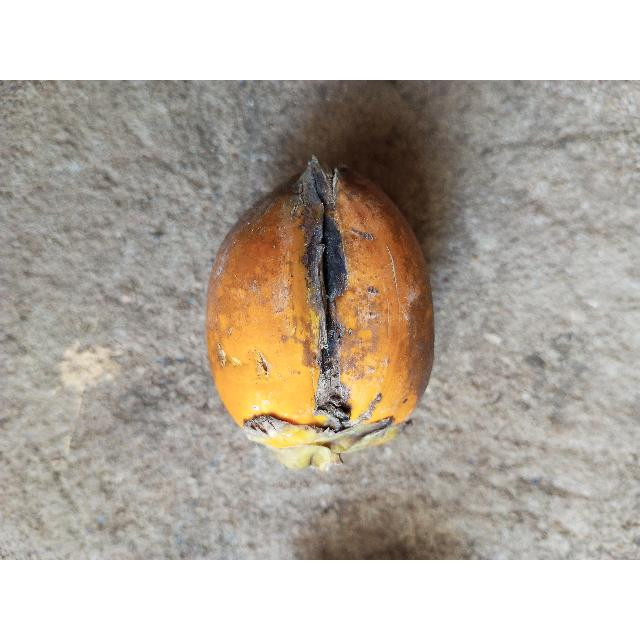damaged: (205, 158, 436, 471)
